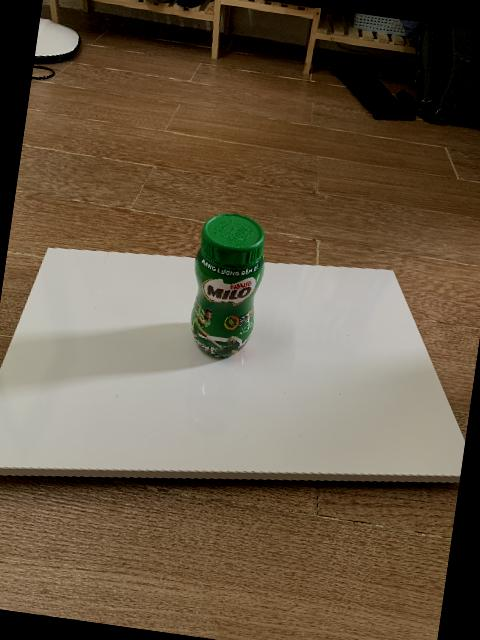milo: (190, 213, 265, 358)
